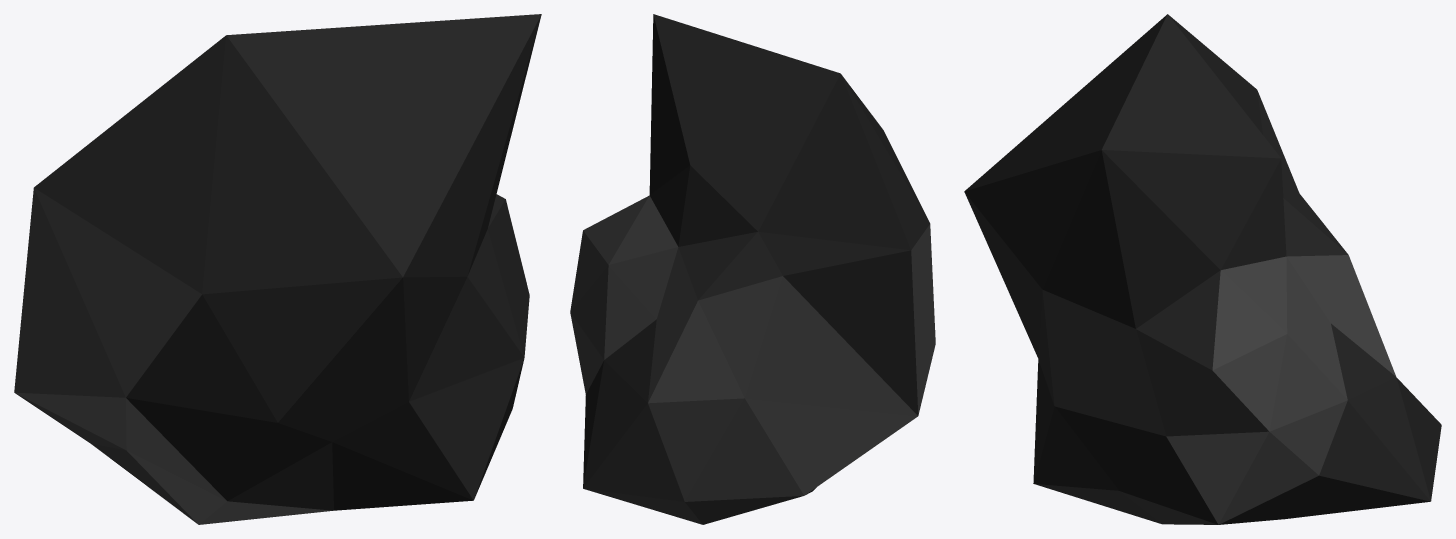
The model's file is rock_3_full.fbx.
The picture shows the model from 3 angles, left to right: view 1: azimuth 30°, elevation 25°; view 2: azimuth 150°, elevation 25°; view 3: azimuth 270°, elevation 25°; orthographic projection. The views are drawn at different scales.
Visible parts, largest first — view 1: Icosphere; view 2: Icosphere; view 3: Icosphere.
Boxes of the visible parts, bbox=[...] form: Icosphere: bbox=[14, 14, 541, 524]; Icosphere: bbox=[570, 14, 935, 524]; Icosphere: bbox=[964, 14, 1441, 524].
Bounding box in the file's own units: 98.21 × 107 × 100.
